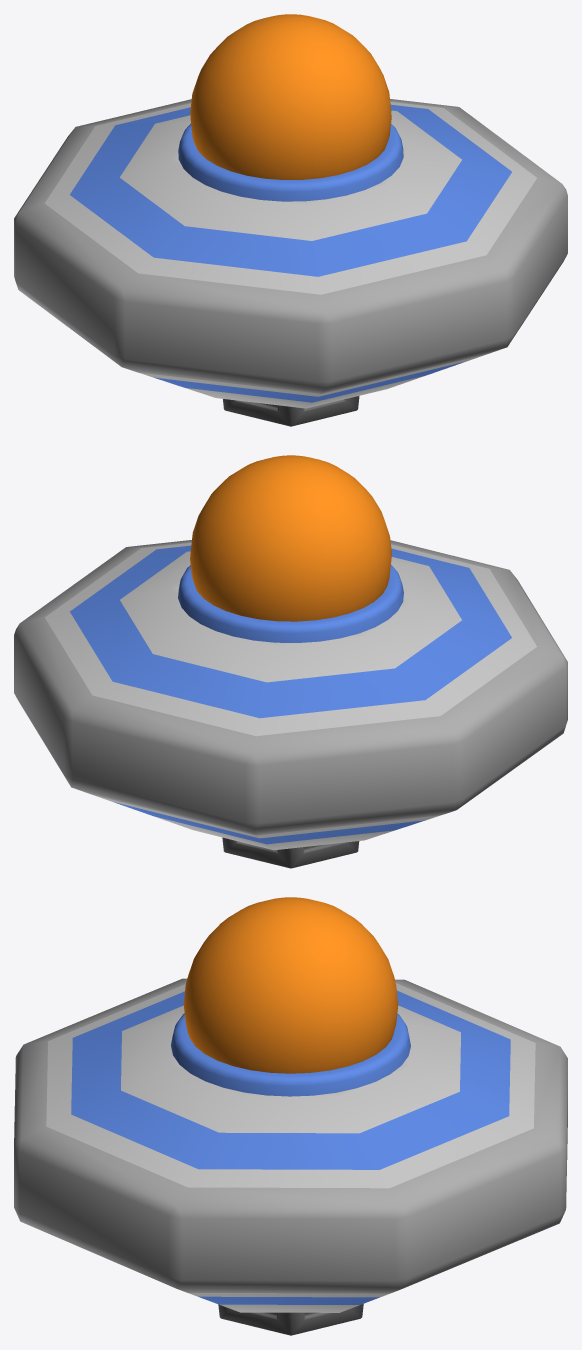
File: ufo.fbx
3 renders of one model, top to bottom at view 1: azimuth 30°, elevation 25°; view 2: azimuth 150°, elevation 25°; view 3: azimuth 270°, elevation 25°, orthographic. The views are drawn at different scales.
Visible parts, largest first — view 1: Цилиндр.075, Сфера.008, Цилиндр.121, Цилиндр.071; view 2: Цилиндр.075, Сфера.008, Цилиндр.121, Цилиндр.071; view 3: Цилиндр.075, Сфера.008, Цилиндр.121, Цилиндр.071.
Part boxes in pixels (x1,y1,x2,y2): Цилиндр.075: (14,99,567,408); Сфера.008: (190,14,391,179); Цилиндр.121: (178,123,403,201); Цилиндр.071: (223,396,359,426); Цилиндр.075: (14,540,567,850); Сфера.008: (190,455,391,621); Цилиндр.121: (178,564,403,642); Цилиндр.071: (222,837,359,868); Цилиндр.075: (14,978,567,1312); Сфера.008: (183,897,398,1073); Цилиндр.121: (171,1013,410,1096); Цилиндр.071: (218,1304,363,1335).
Bounding box in the file's own units: 677 × 532 × 677.
